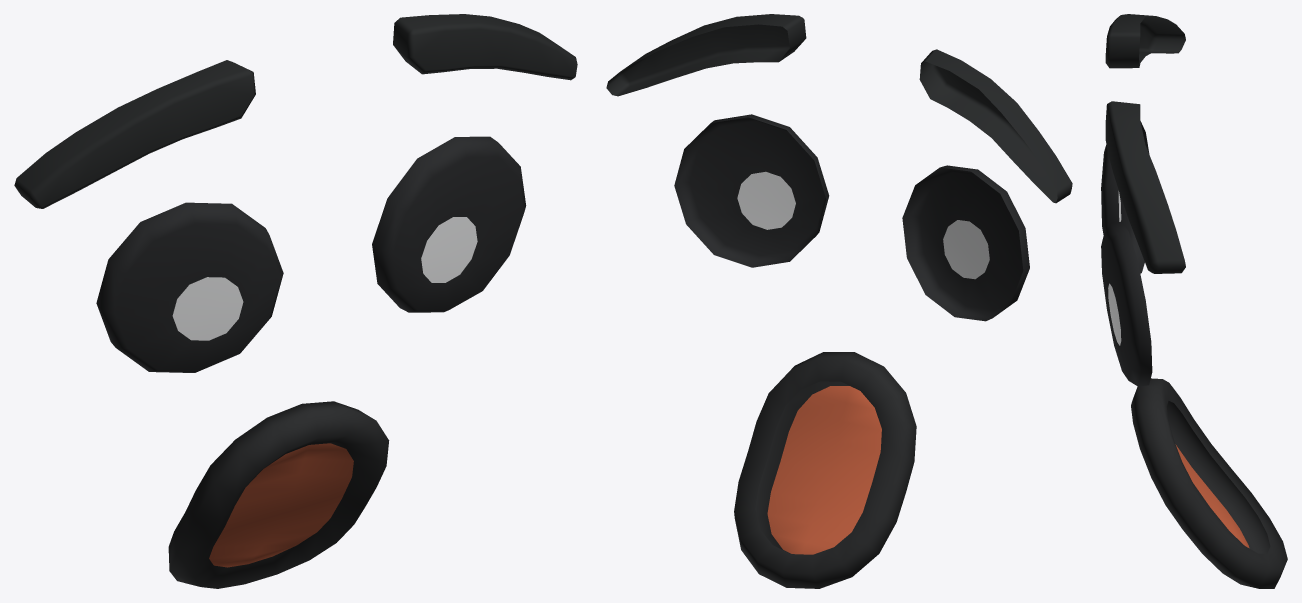
Rendered from Female_Emotion_Surpriced_02.glb.
3 renders of one model, left to right at view 1: azimuth 30°, elevation 25°; view 2: azimuth 150°, elevation 25°; view 3: azimuth 270°, elevation 25°, orthographic. The views are drawn at different scales.
Parts seen in each view (by area): view 1: Female_Emotion_Surpriced_02; view 2: Female_Emotion_Surpriced_02; view 3: Female_Emotion_Surpriced_02.
Boxes of the visible parts, bbox=[...] form: Female_Emotion_Surpriced_02: bbox=[14, 14, 577, 588]; Female_Emotion_Surpriced_02: bbox=[606, 14, 1072, 588]; Female_Emotion_Surpriced_02: bbox=[1101, 14, 1287, 588].
Bounding box in the file's own units: 0.2606 × 0.2721 × 0.0901.
Materials: 1 (1 with a texture image).
